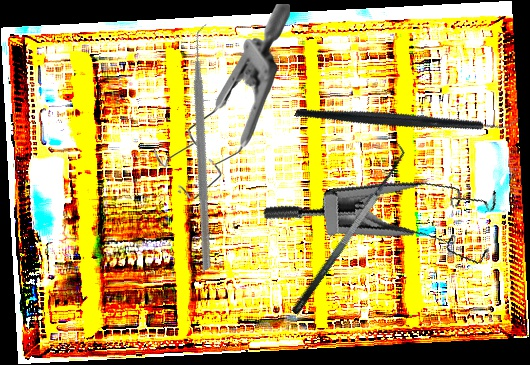Chopper: (88, 17, 330, 273), (294, 31, 521, 201)
Spatula Surgical: (277, 140, 415, 316)
Speculum: (261, 148, 513, 314), (154, 4, 290, 199)
